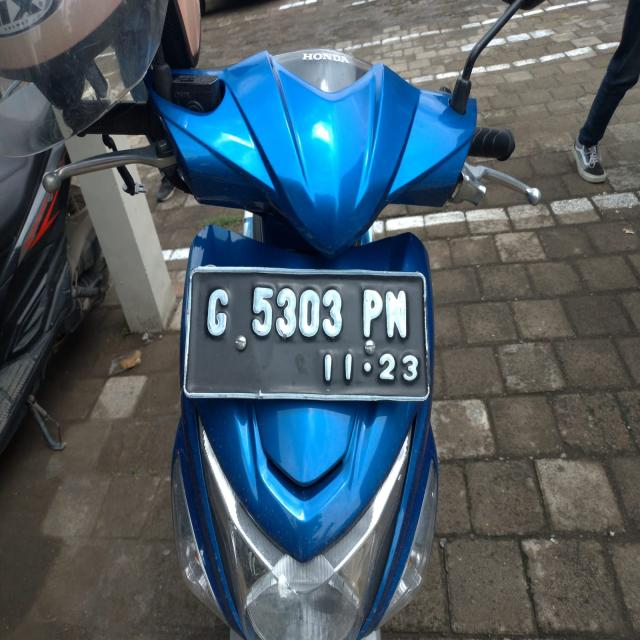plate: (184, 269, 431, 405)
